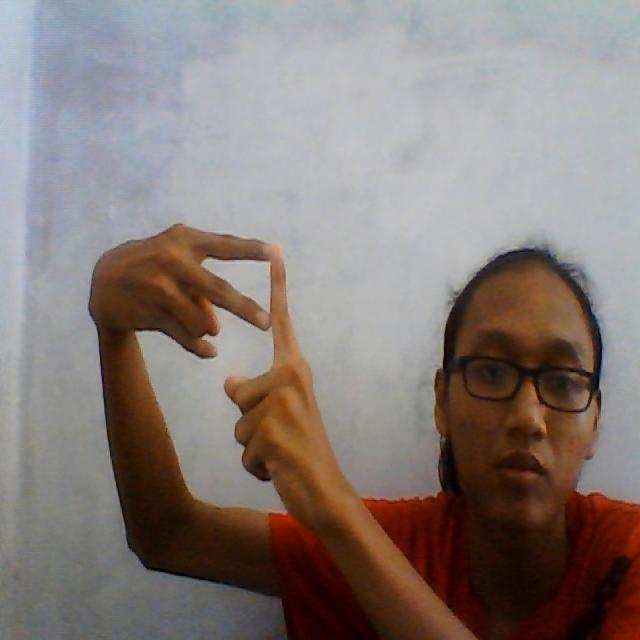P: (181, 227, 311, 471)
